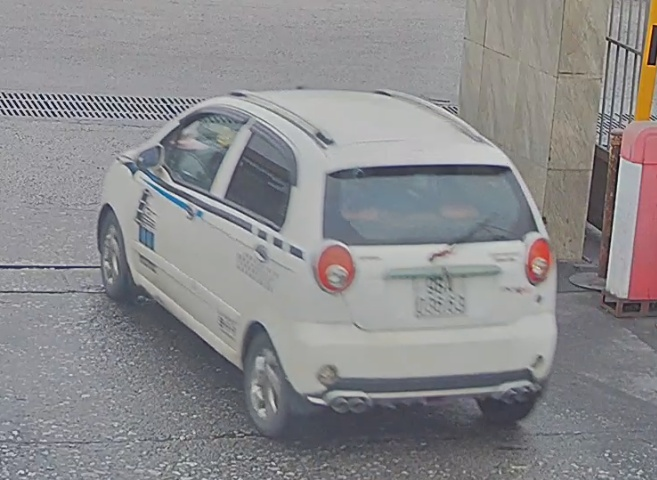vehicle plate: (414, 276, 471, 321)
